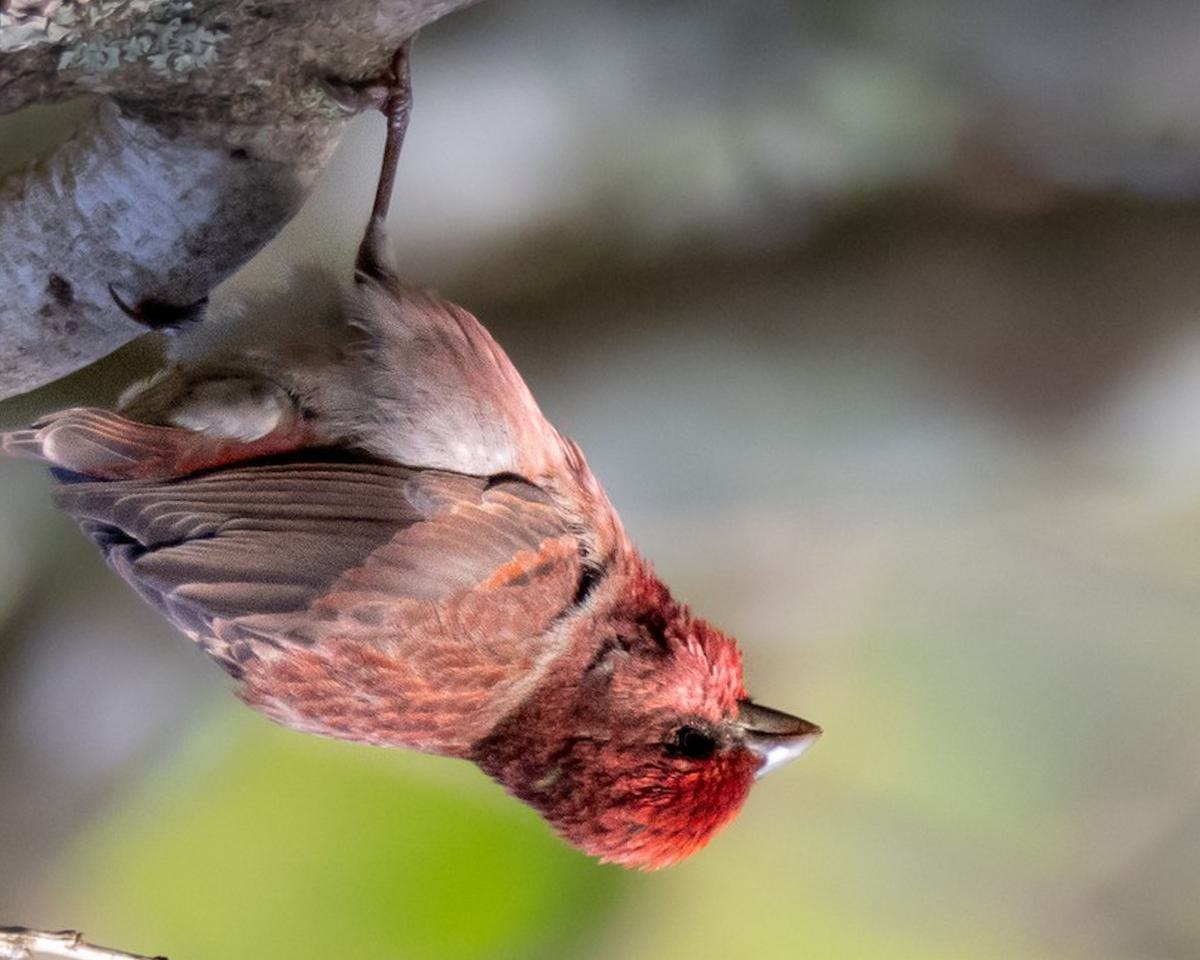rosefinch: (28, 170, 830, 857)
